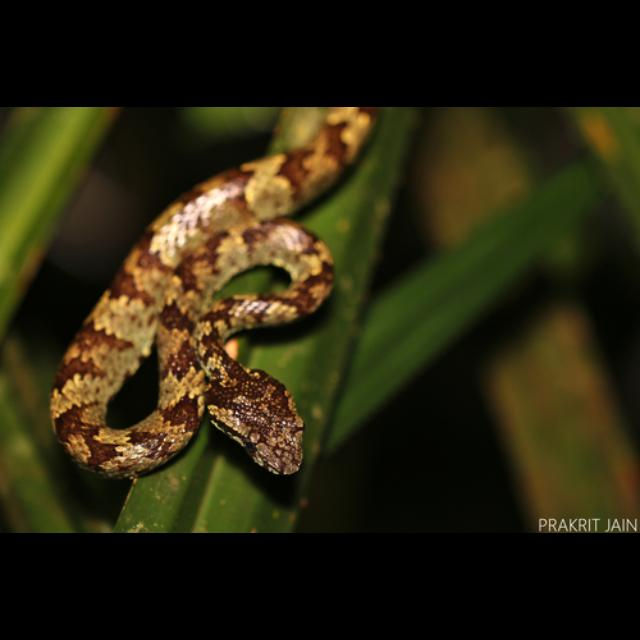snake: (50, 107, 332, 475)
